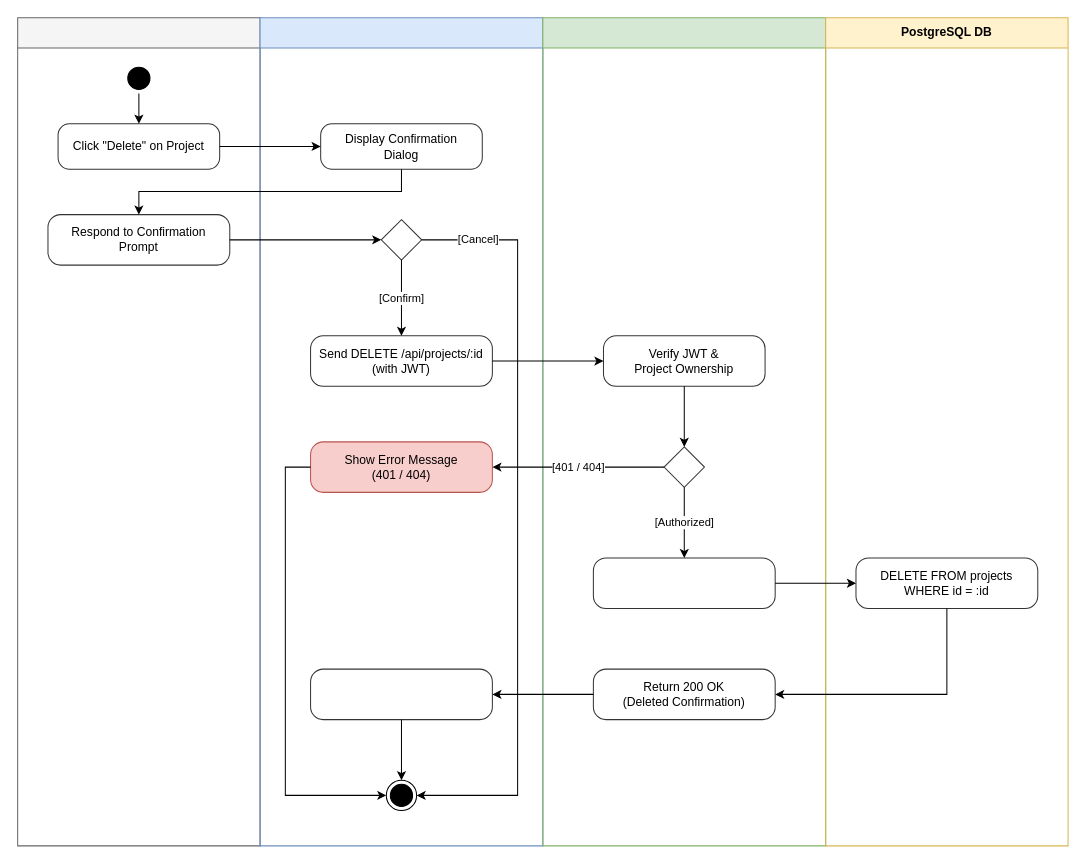
This 1086x864 diagram has some shape labels left out. The box of each missing label's shape, as (x1, y1, x2, y2) in pixels:
Backend API (Projects): (542, 17, 826, 846)
Client App (Web / Mobile): (259, 17, 543, 846)
Delete Project & Destroy Entity: (592, 557, 775, 609)
Remove Project Card from Sidebar: (310, 668, 492, 720)
User: (17, 17, 260, 846)
